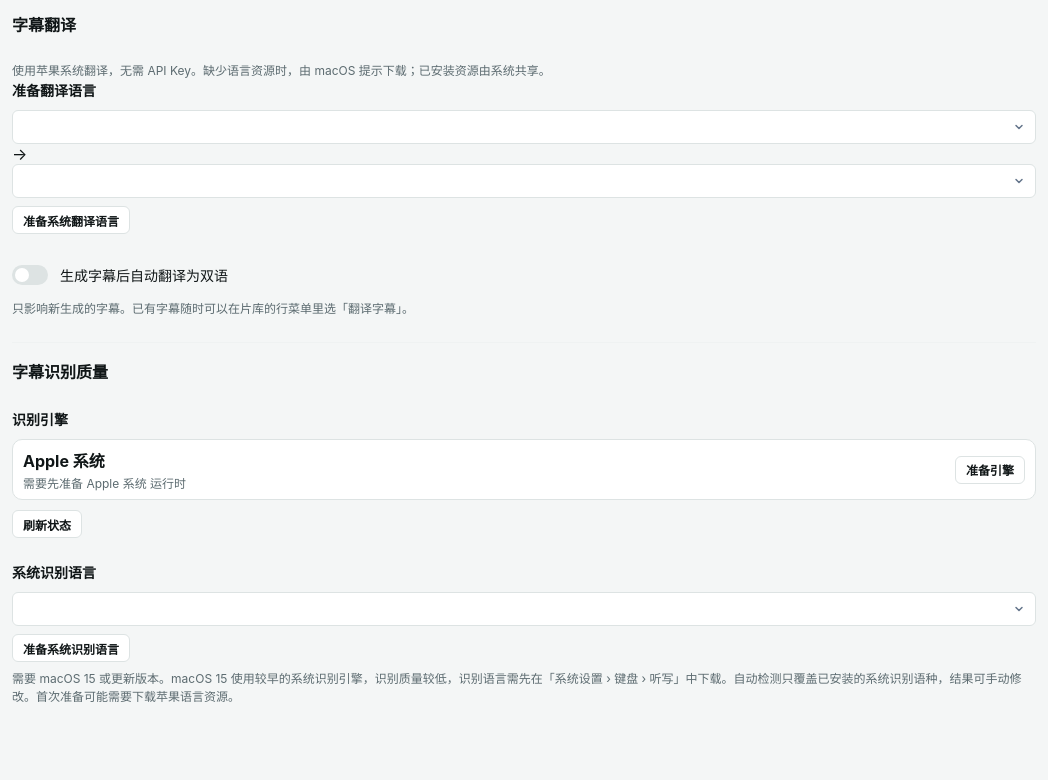
Test: 字幕引擎状态与准备（D-PC22） › MEDIA-13 准备过程显示中文进度，可以取消；取消不当失败
Click the button with test id "subtitle-engine-prepare-apple" at (990, 470), box [955, 456, 1025, 484]
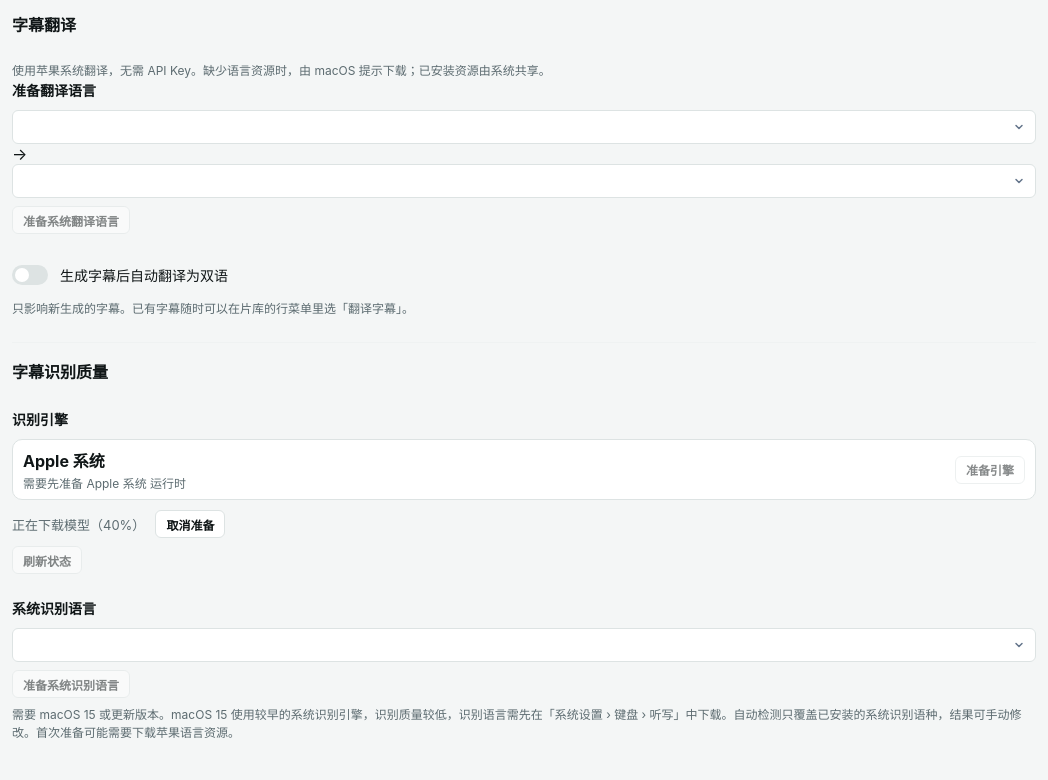
expect the message with test id "subtitle-engine-progress" shows "正在下载模型（40%）": met, box [12, 516, 145, 532]
Click the button with test id "subtitle-engine-cancel" at (190, 524), box [155, 510, 225, 538]
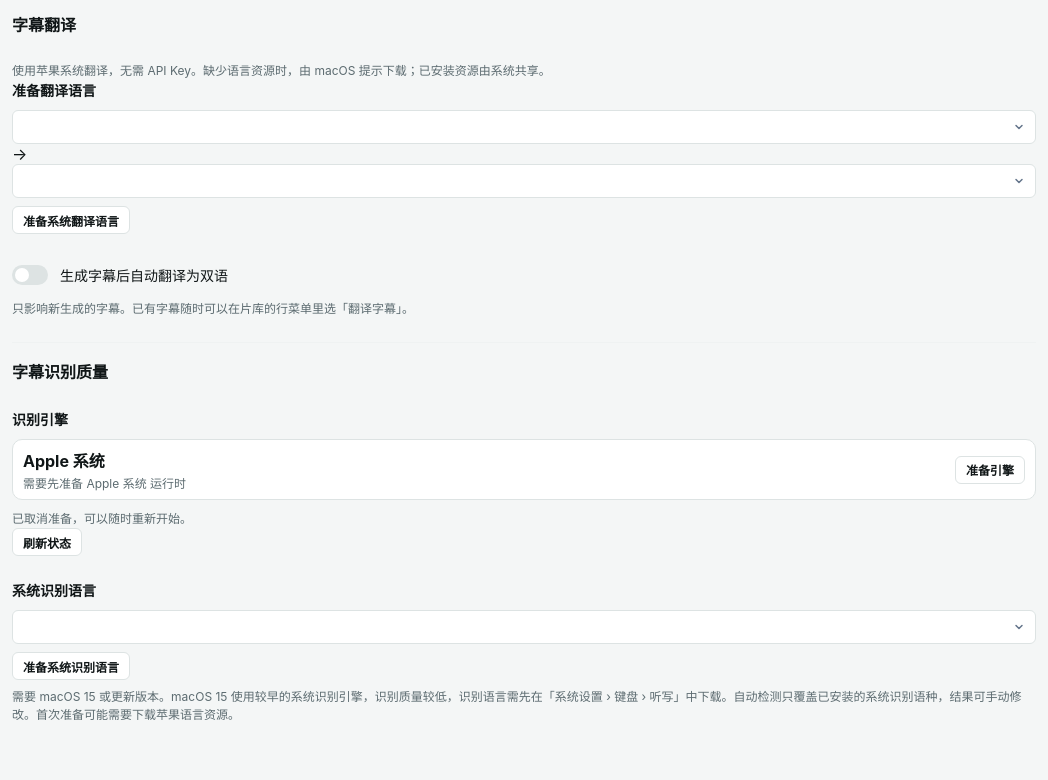
expect the text with test id "subtitle-engine-message" shows "已取消准备": met, box [12, 511, 192, 526]
